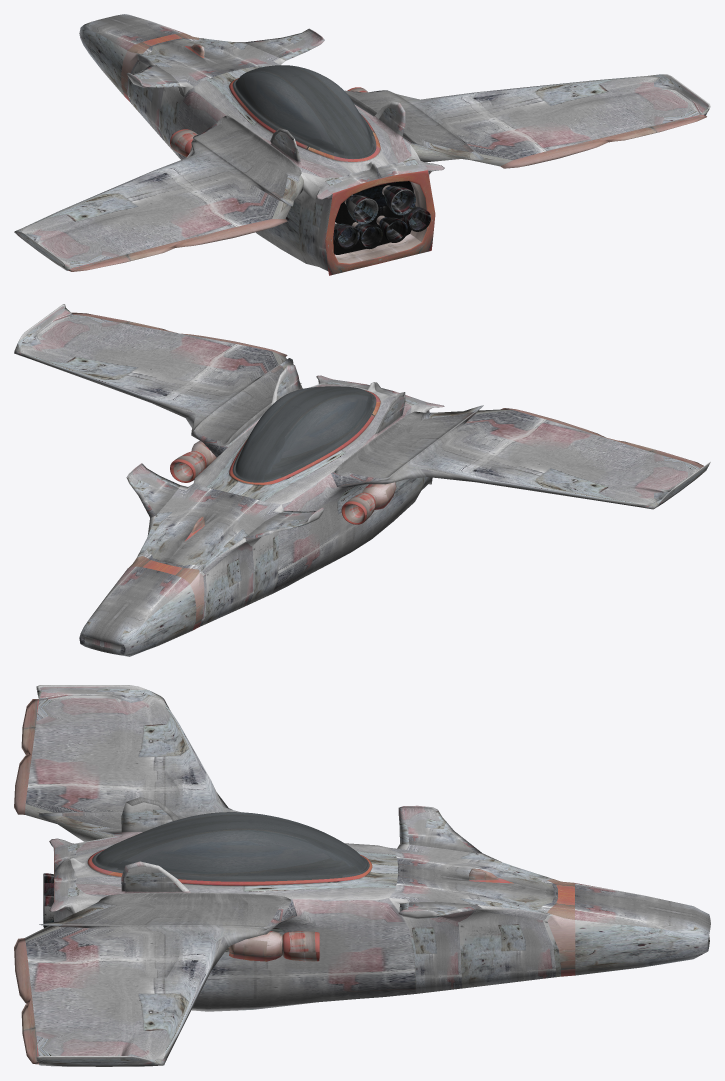
Rendered from StarChaser2.FBX.
The picture shows the model from 3 angles, top to bottom: view 1: azimuth 30°, elevation 25°; view 2: azimuth 150°, elevation 25°; view 3: azimuth 270°, elevation 25°; orthographic projection. The views are drawn at different scales.
Visible parts, largest first — view 1: Box01; view 2: Box01; view 3: Box01.
Boxes of the visible parts, <box> form: Box01: <box>14,14,710,275</box>; Box01: <box>14,304,710,656</box>; Box01: <box>14,685,710,1066</box>.
Size of the model in its own units: 48.64 by 38.62 by 9.88.
Materials: 9 (9 with a texture image).
